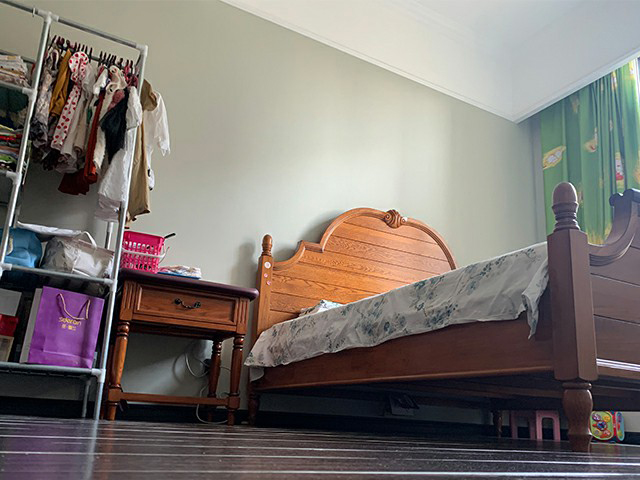bed: (238, 184, 639, 450)
table: (102, 267, 258, 426)
